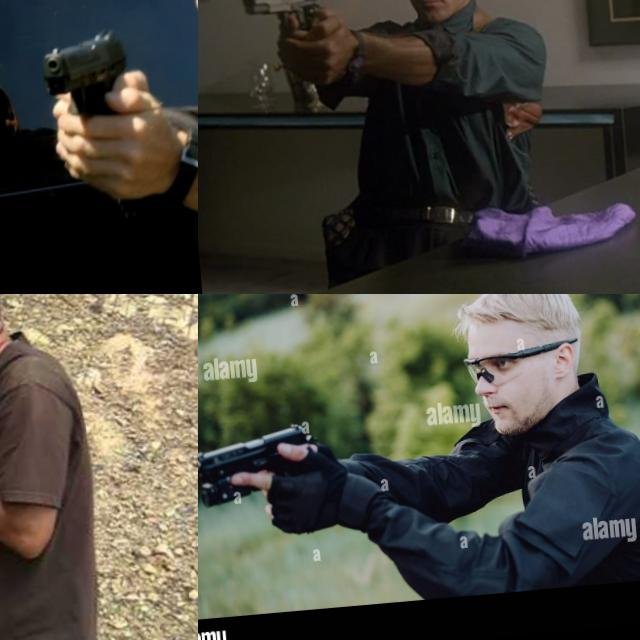handgun: (198, 420, 325, 510), (37, 23, 135, 122), (237, 0, 329, 56), (0, 395, 52, 451)
